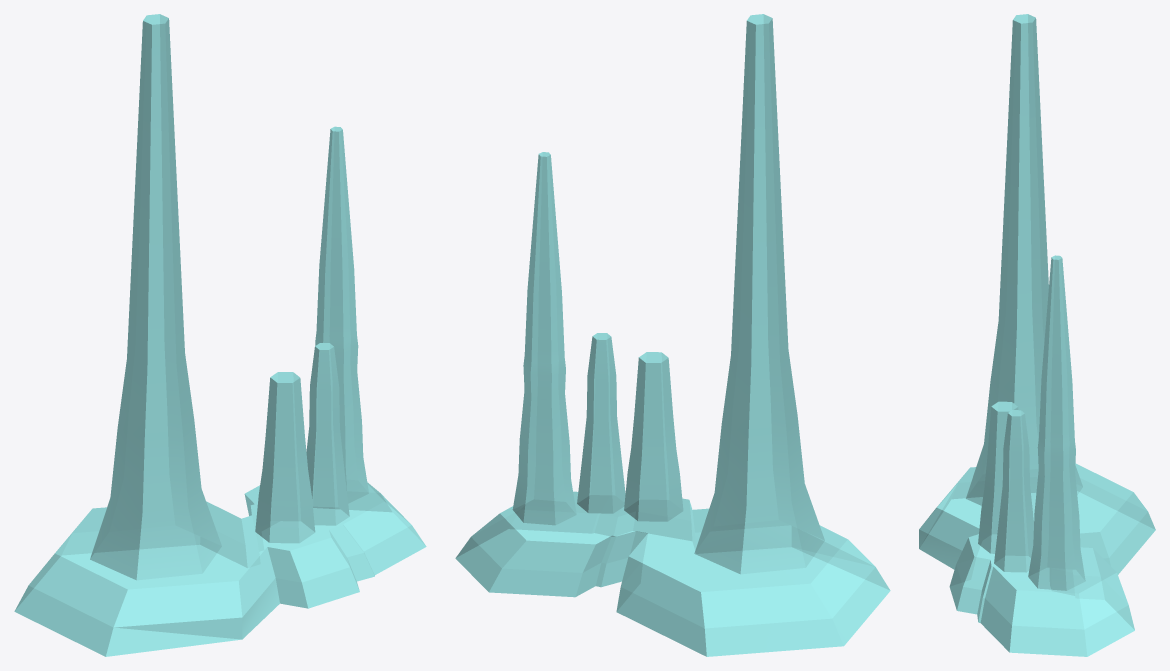
Rendered from Stalagmite_Ice_03.fbx.
The picture shows the model from 3 angles, left to right: view 1: azimuth 30°, elevation 25°; view 2: azimuth 150°, elevation 25°; view 3: azimuth 270°, elevation 25°; orthographic projection. The views are drawn at different scales.
Visible parts, largest first — view 1: Model; view 2: Model; view 3: Model.
Part boxes in pixels (x1=…): Model: x1=14, y1=14, x2=426, y2=656; Model: x1=455, y1=14, x2=890, y2=656; Model: x1=919, y1=14, x2=1155, y2=656.
Bounding box in the file's own units: 683 × 990 × 409.
